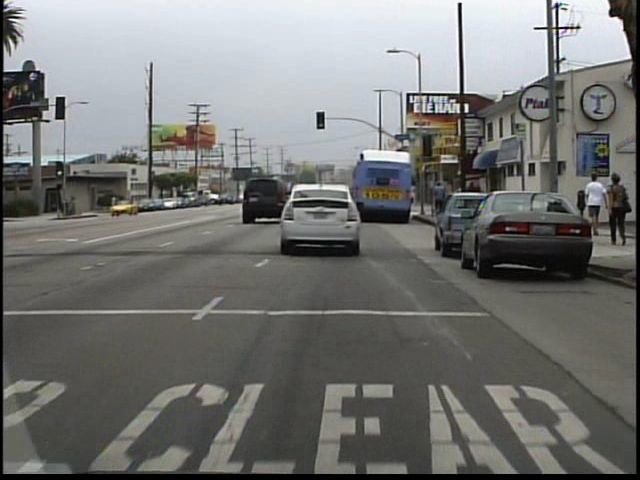person: (603, 171, 629, 249), (582, 171, 607, 233), (430, 181, 449, 222), (110, 193, 124, 217)
